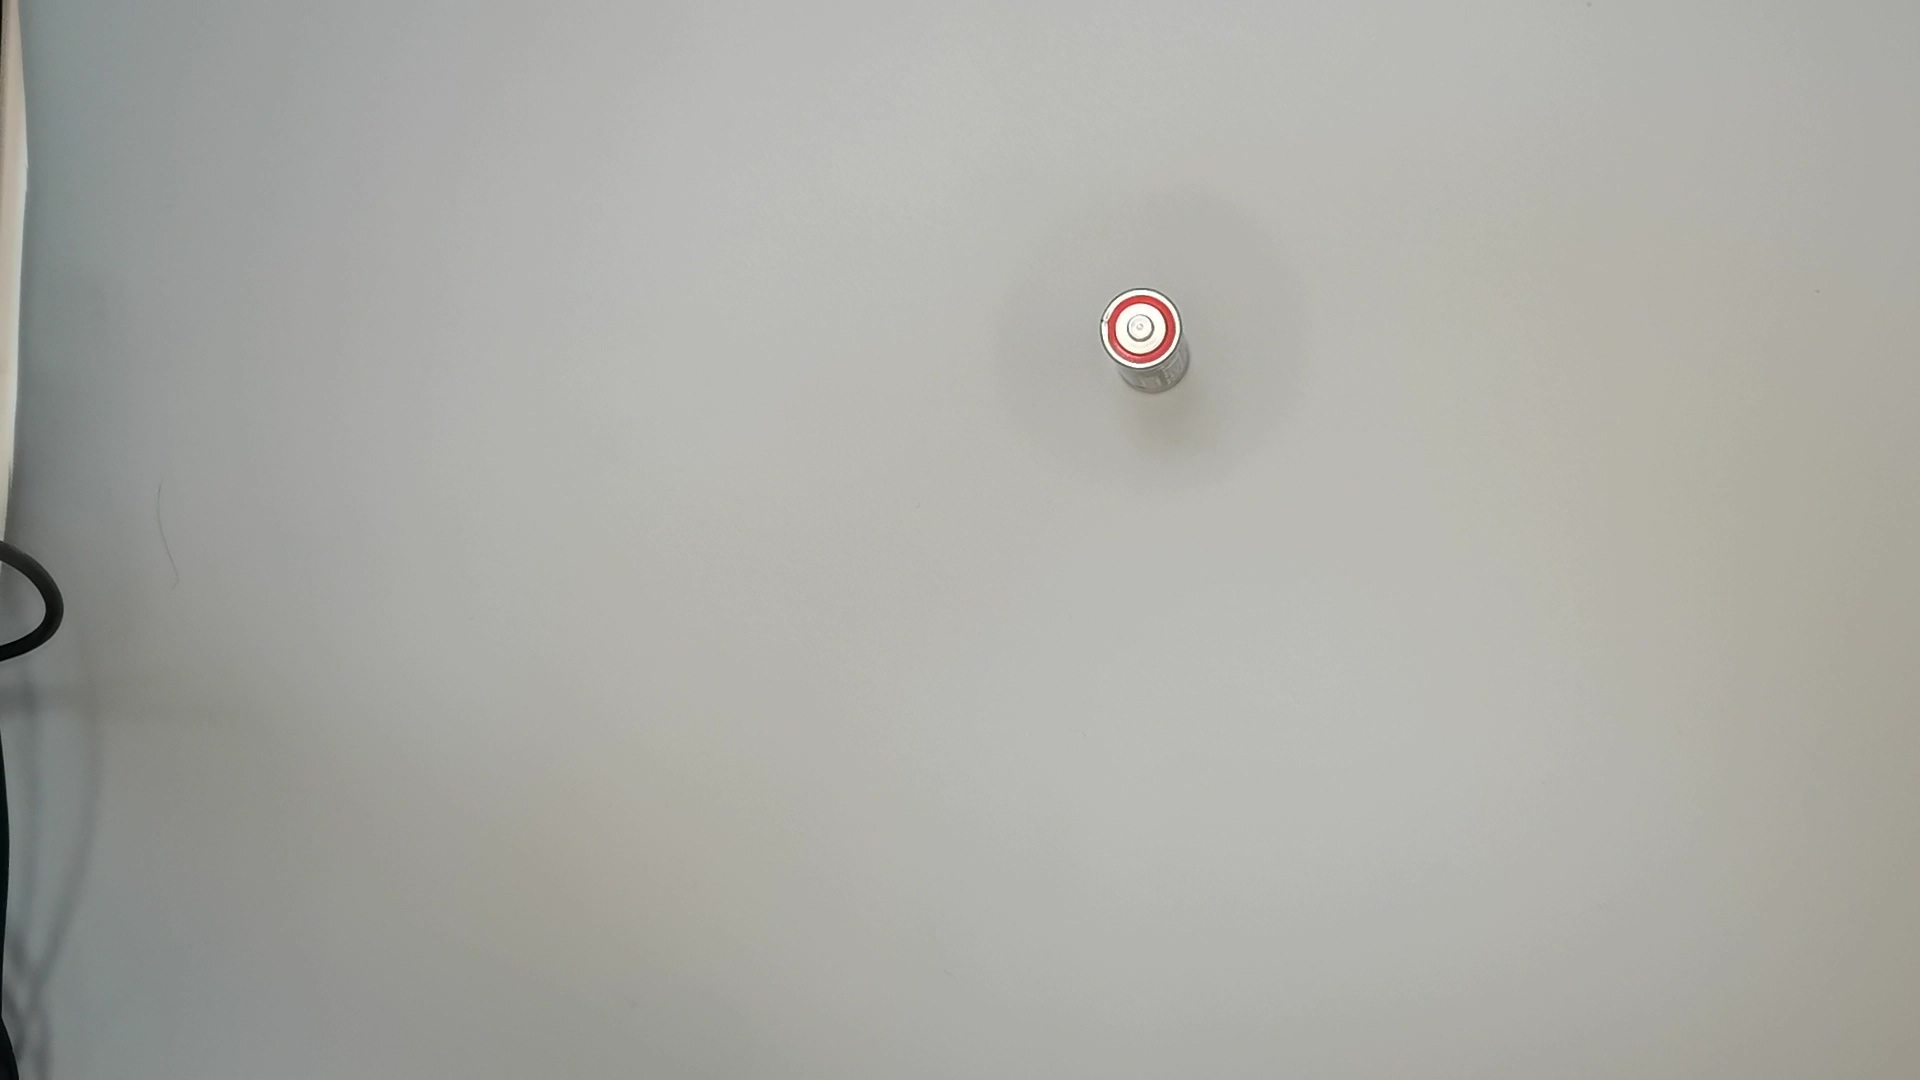battery: (1092, 284, 1207, 404)
